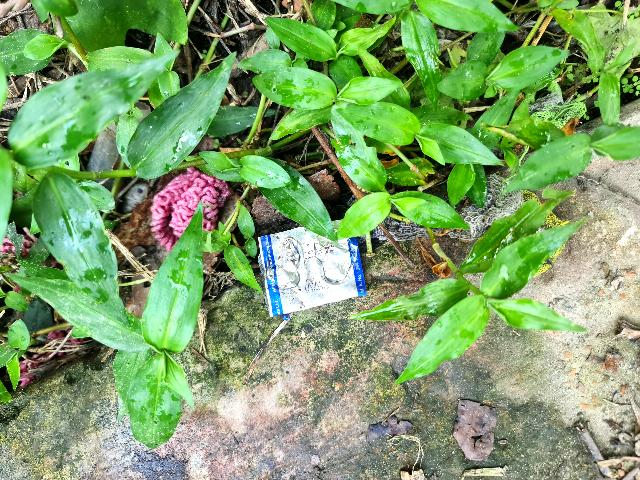medicine: (251, 217, 370, 332)
